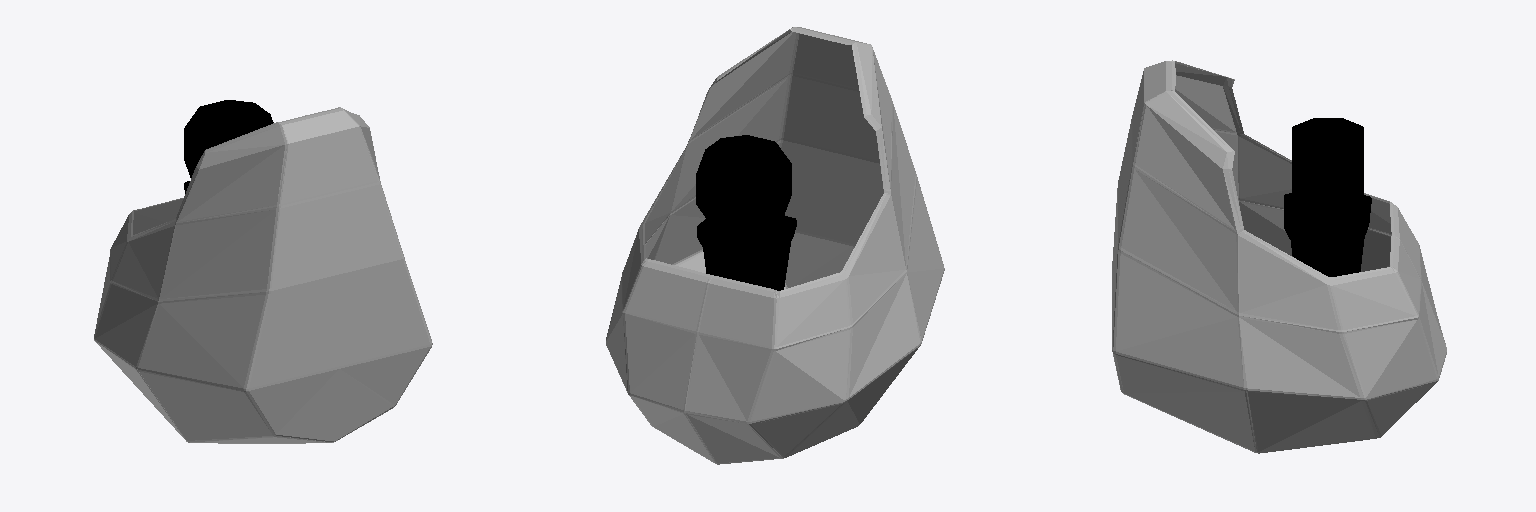
Rendered from Head.obj.
The picture shows the model from 3 angles: view 1: azimuth 30°, elevation 25°; view 2: azimuth 150°, elevation 25°; view 3: azimuth 270°, elevation 25°; orthographic projection.
Parts seen in each view (by area): view 1: head, joint_head; view 2: head, joint_head; view 3: head, joint_head.
Part boxes in pixels (x1,y1,x2,y2): head: (94,107,432,443); joint_head: (184,100,273,193); head: (606,27,944,464); joint_head: (696,135,796,290); head: (1112,60,1446,453); joint_head: (1284,118,1371,276).
Bounding box in the file's own units: 1.13 × 1.44 × 1.21.